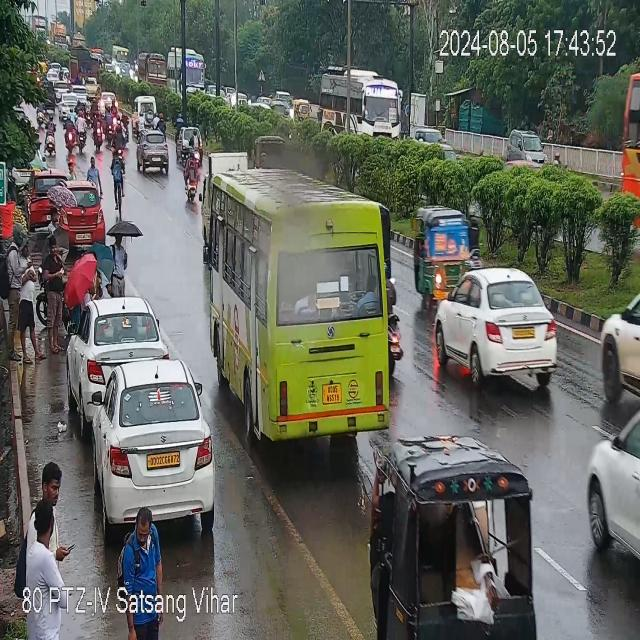2-wheelers: (178, 118, 208, 194), (14, 98, 57, 132), (92, 94, 116, 148), (110, 145, 126, 221), (77, 45, 99, 86), (72, 103, 88, 154), (64, 108, 78, 148)
auto: (384, 435, 540, 633), (412, 203, 473, 298), (135, 96, 157, 129), (296, 98, 312, 120)
bus: (207, 155, 403, 439), (319, 71, 398, 138), (621, 71, 640, 206), (165, 48, 206, 90)
car: (92, 362, 214, 522), (436, 265, 558, 382), (74, 295, 166, 404), (580, 399, 636, 568), (66, 181, 107, 237), (28, 166, 66, 220), (507, 132, 550, 166), (137, 130, 171, 172)
pedestrian: (26, 489, 68, 592), (120, 506, 166, 588), (6, 229, 24, 358), (20, 231, 36, 363), (46, 237, 62, 357), (36, 465, 67, 525), (109, 237, 133, 294), (85, 252, 103, 290), (88, 157, 104, 190)
truck: (596, 288, 636, 420), (138, 54, 168, 90)
